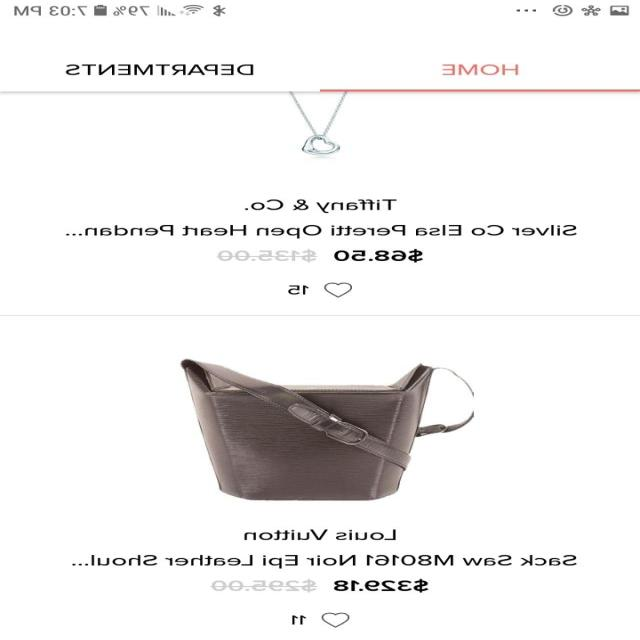Icon: (320, 611, 350, 627), (324, 282, 354, 297)
Image: (182, 355, 476, 500), (288, 91, 348, 155)
Text: (72, 554, 578, 569), (67, 224, 578, 238), (212, 578, 429, 592), (217, 248, 424, 262), (66, 64, 256, 76), (245, 199, 398, 213), (244, 529, 396, 540), (442, 64, 520, 76), (288, 285, 310, 295), (292, 614, 308, 624)
